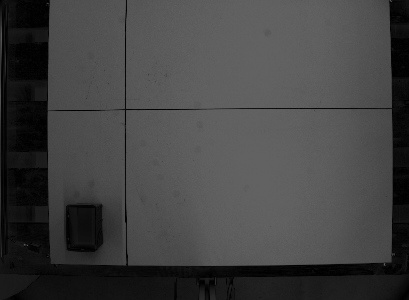kltxs: (63, 202, 106, 253)
